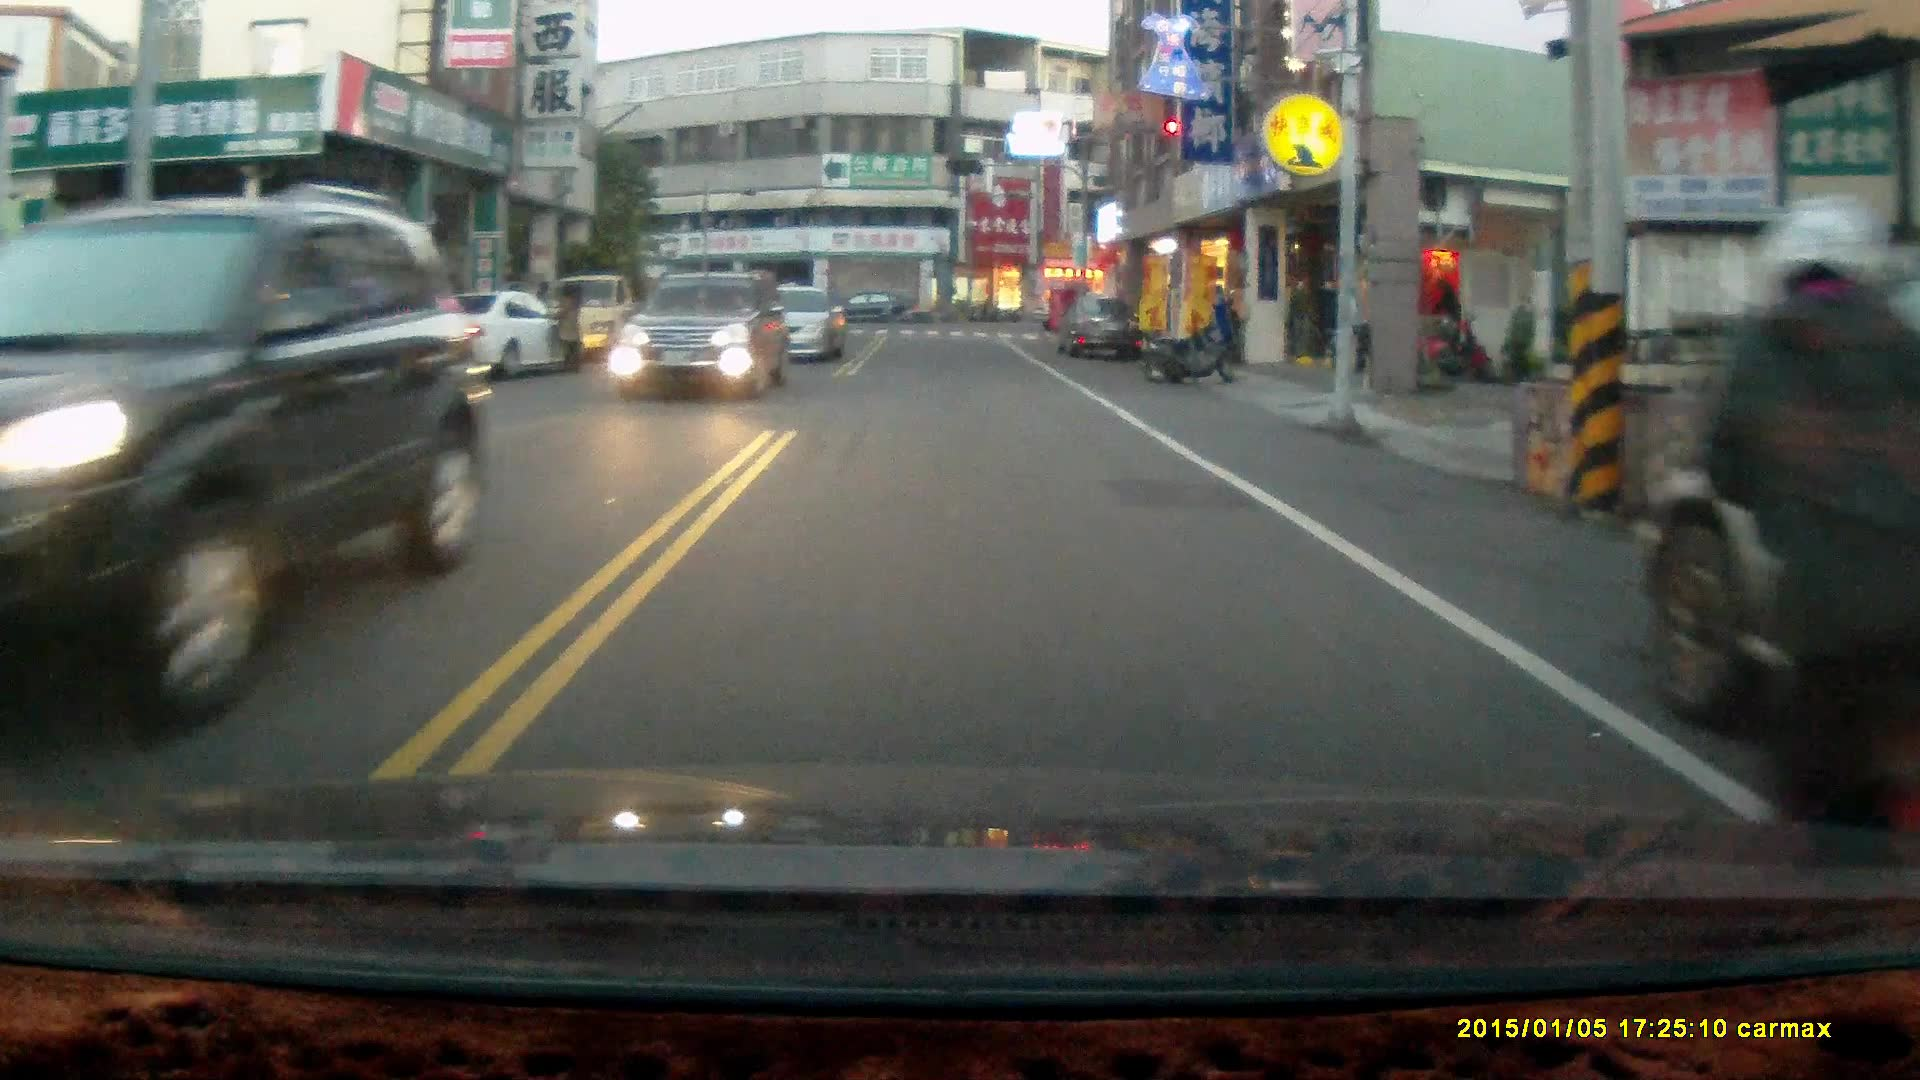pedestrian: (547, 279, 580, 375)
rider: (1693, 194, 1919, 860)
vehicle: (2, 184, 490, 731), (1645, 291, 1920, 773), (619, 267, 789, 403), (728, 282, 850, 363), (1054, 295, 1146, 366), (819, 289, 928, 329)
